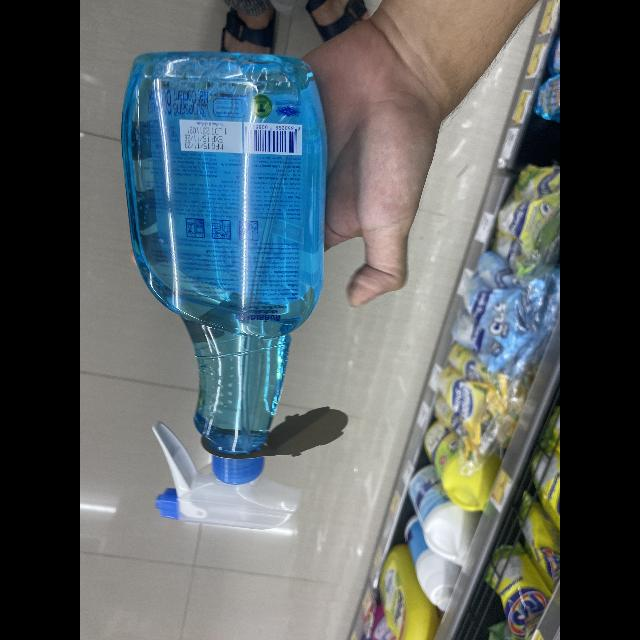chemical_plastic_bottle: (122, 46, 334, 540)
